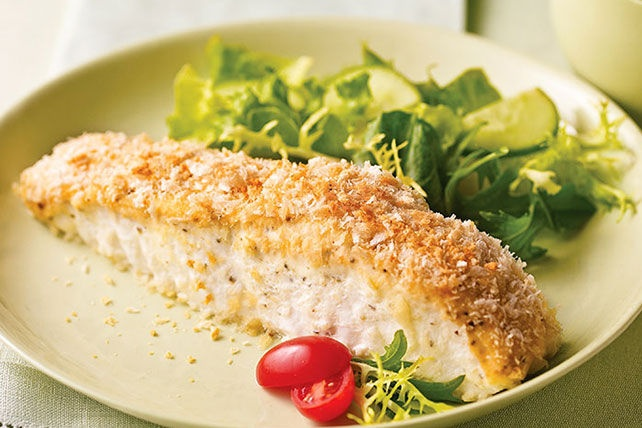background: (19, 21, 642, 284)
